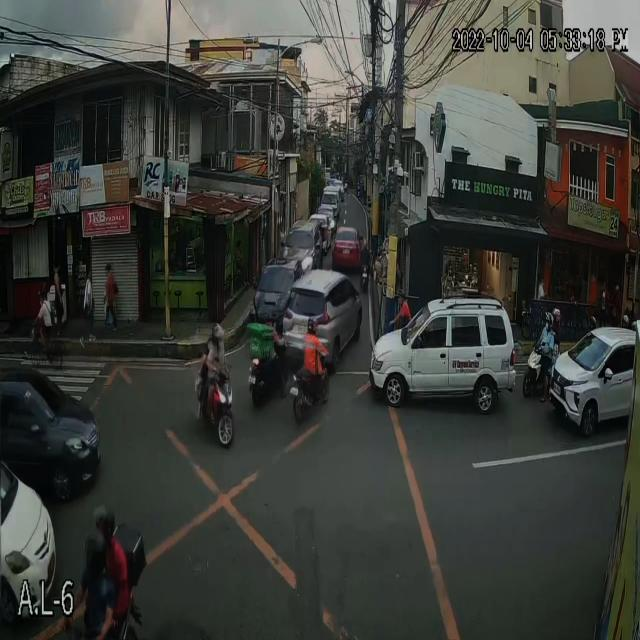Full-Faced: (83, 529, 107, 579), (94, 501, 112, 537), (307, 314, 318, 335), (552, 306, 562, 328)
Half-Faced: (541, 310, 552, 333)
Invalid: (210, 324, 229, 353)
